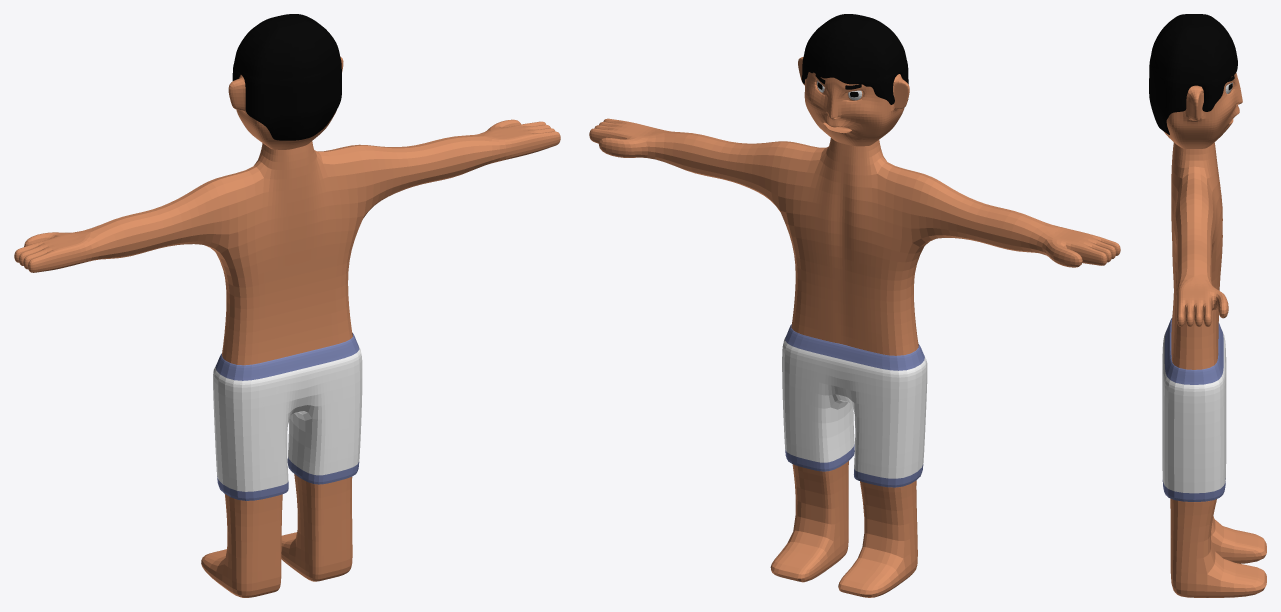
File: MNPC3.fbx
3 renders of one model, left to right at view 1: azimuth 30°, elevation 25°; view 2: azimuth 150°, elevation 25°; view 3: azimuth 270°, elevation 25°, orthographic. The views are drawn at different scales.
Parts seen in each view (by area): view 1: MNPC3; view 2: MNPC3; view 3: MNPC3.
Boxes of the visible parts, box(x1,y1,x2,y2) form: MNPC3: box(14, 14, 560, 597); MNPC3: box(589, 14, 1120, 597); MNPC3: box(1149, 14, 1266, 597).
Size of the model in its own units: 169 by 171 by 32.98.
